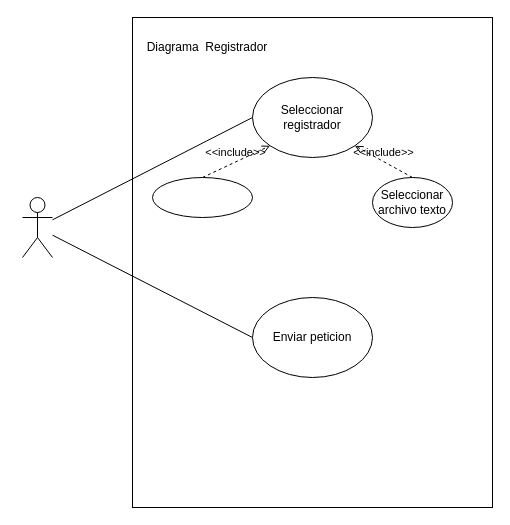
The diagram is 510 pixels wide and 525 high, and some of its shapes have lost their labels. The shapes that lost their labels are listed below. From the top down, each one's centre as x and y in pixels, then its label:
At [202,197]: "Seleccionar consola".
At [37,227]: "Usuario".
